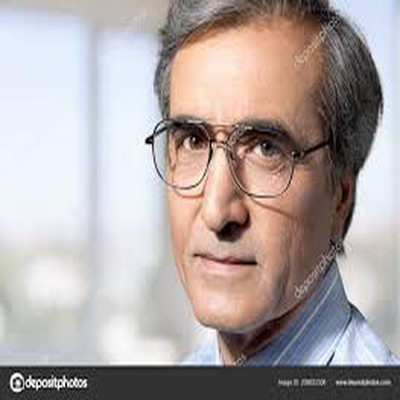eywear: (120, 91, 328, 212)
